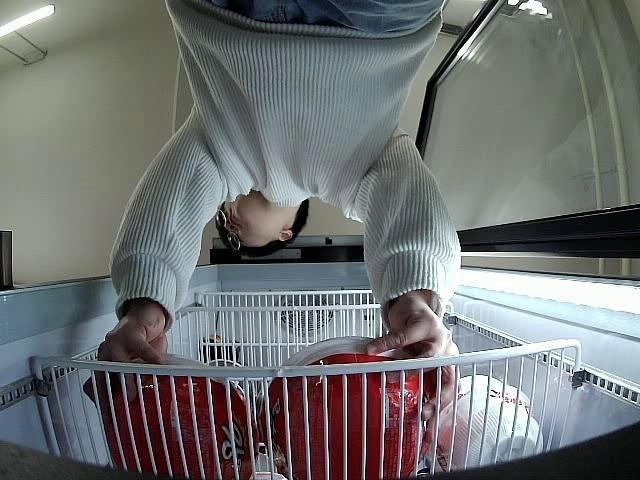10_wangTtukkeong: (256, 336, 438, 480), (102, 357, 256, 480)
